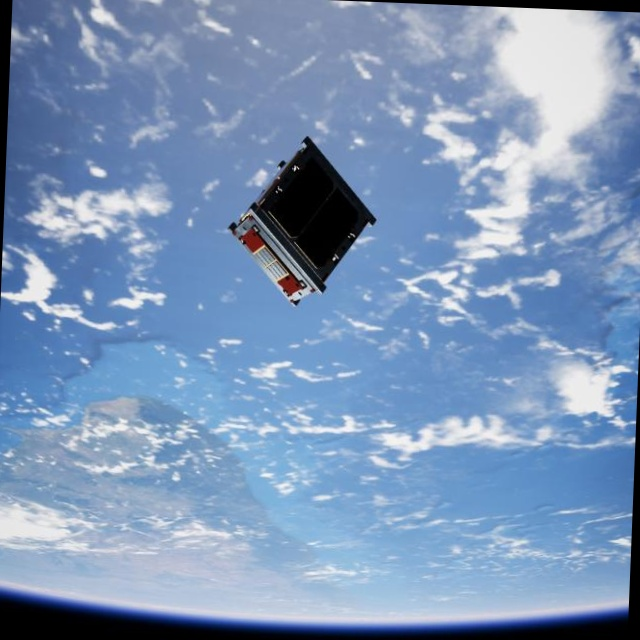satellite: (222, 130, 378, 314)
